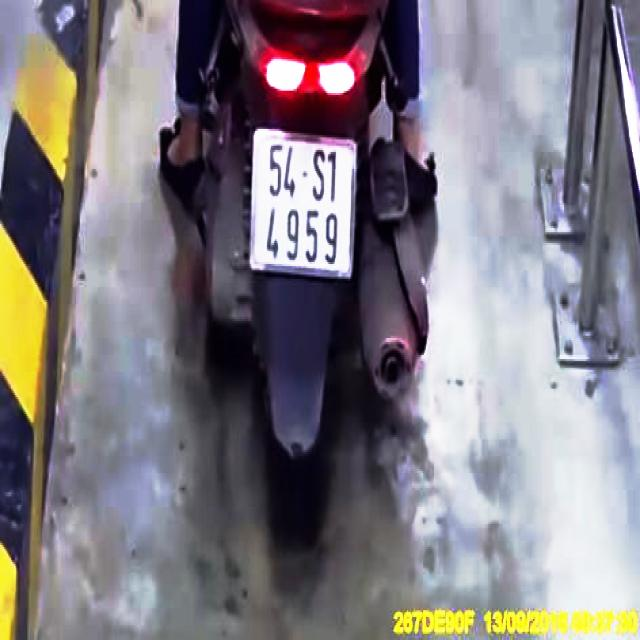license_plate: (249, 133, 359, 276)
